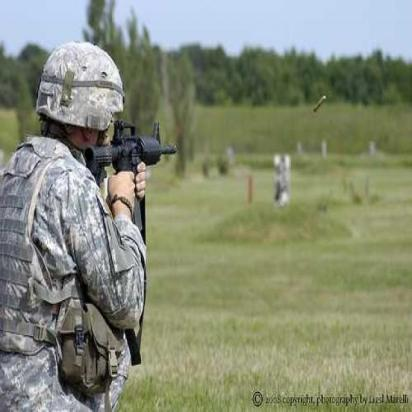Gun: (87, 120, 177, 184)
